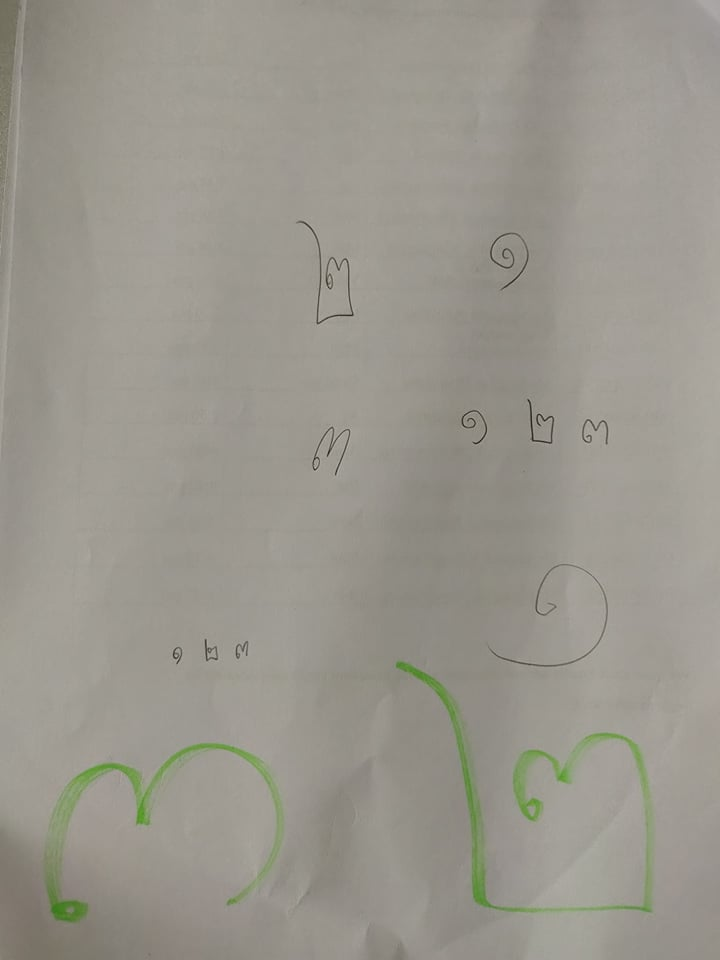One: (474, 555, 615, 676), (479, 230, 545, 291), (456, 408, 493, 450), (168, 646, 187, 663)
Three: (19, 741, 301, 930), (299, 419, 358, 483), (578, 414, 614, 452), (232, 638, 252, 659)
Two: (369, 659, 678, 923), (286, 211, 368, 334), (523, 390, 559, 451), (202, 635, 222, 664)
